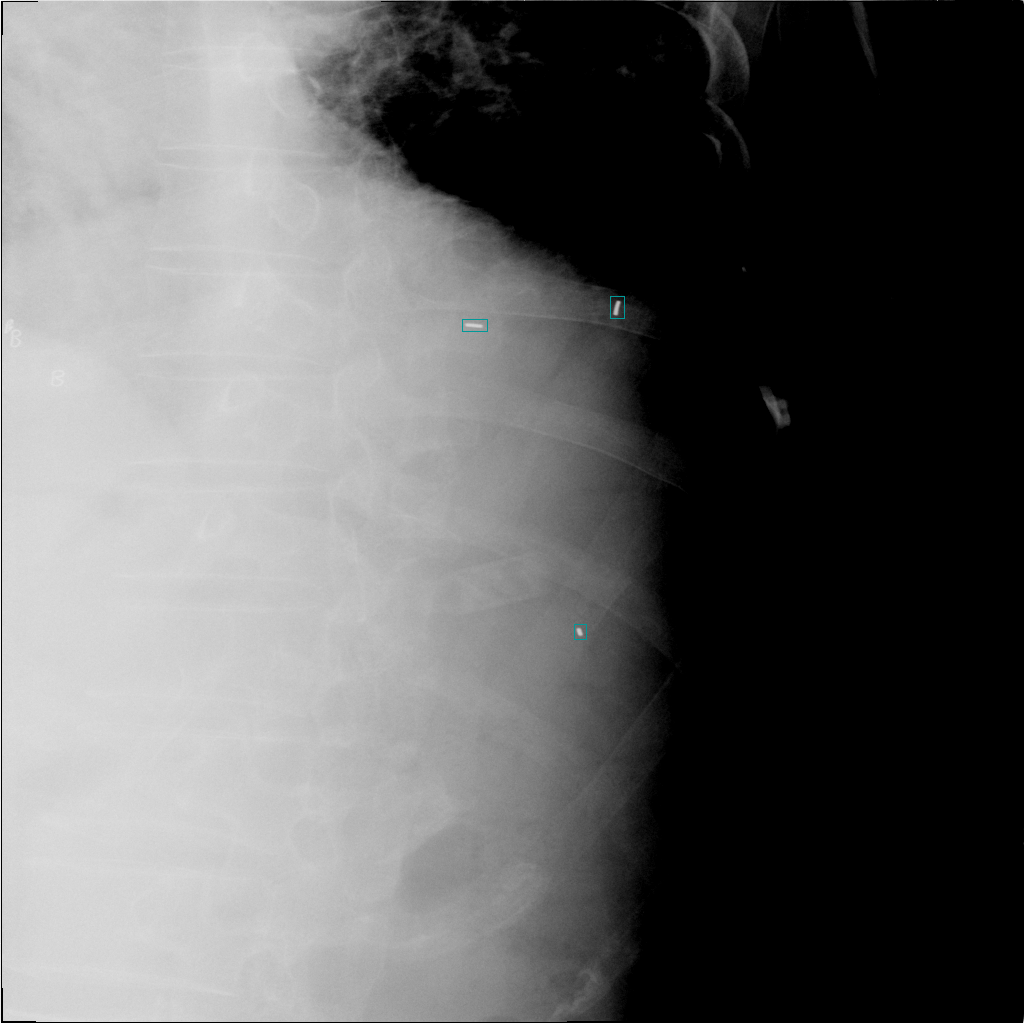fiducial: (610, 296, 624, 318), (462, 319, 487, 331), (574, 624, 586, 639)
